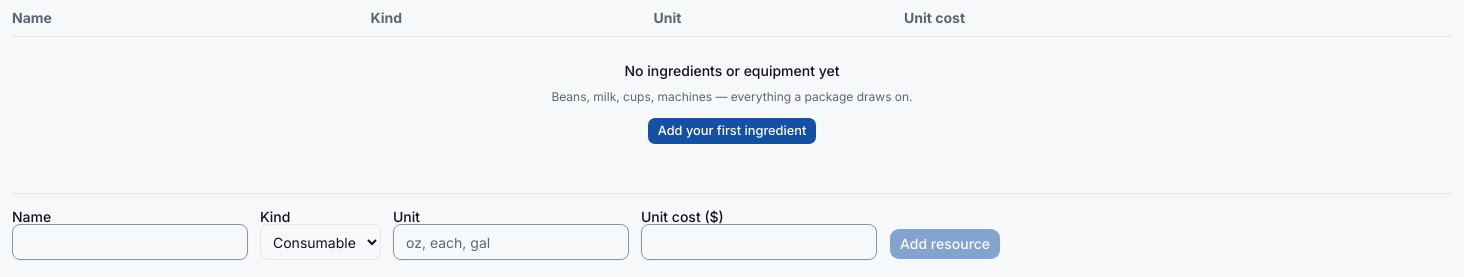
Test: ResourcesTab › creates a resource from the add form
Type "Oat milk" into the field labelled "Name" at (130, 242), box [12,224,248,260]
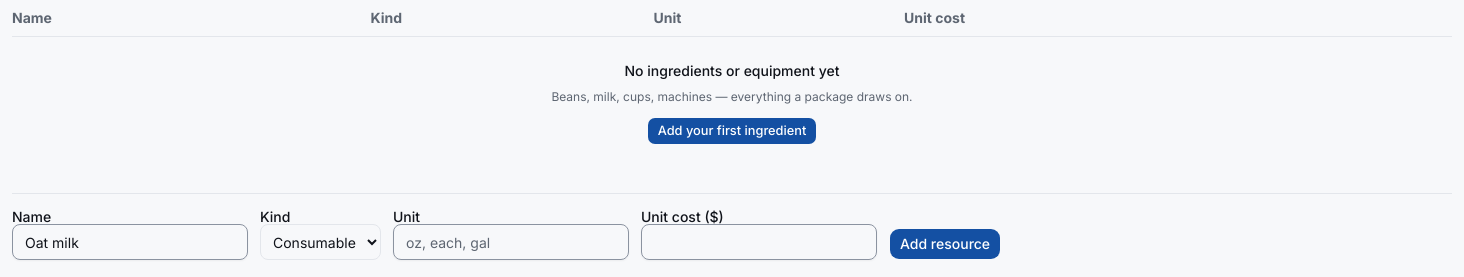
Type "oz" into the field labelled "Unit" at (511, 242), box [393,224,629,260]
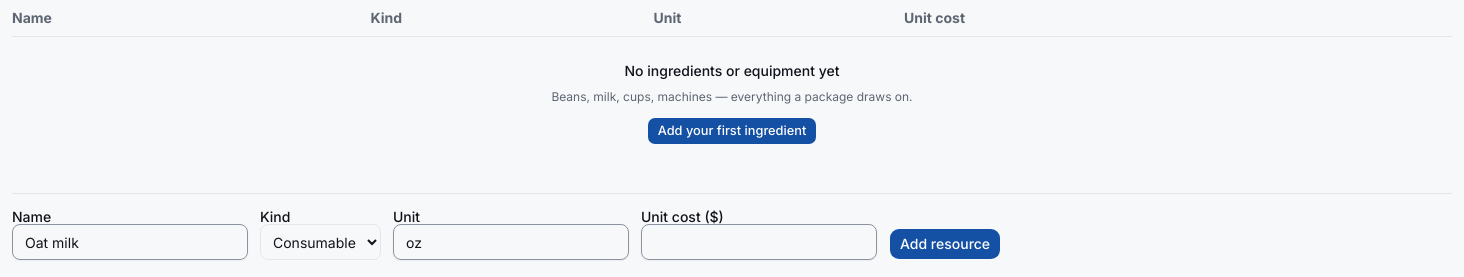
Type "0.05" into the number field labelled "Unit cost ($)" at (759, 242), box [641,224,877,260]
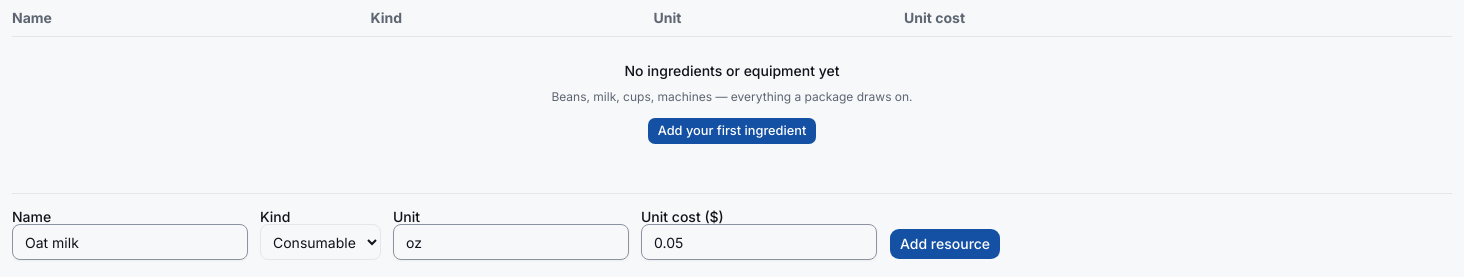
Click the button "Add resource" at (945, 244), box [889,228,1001,260]
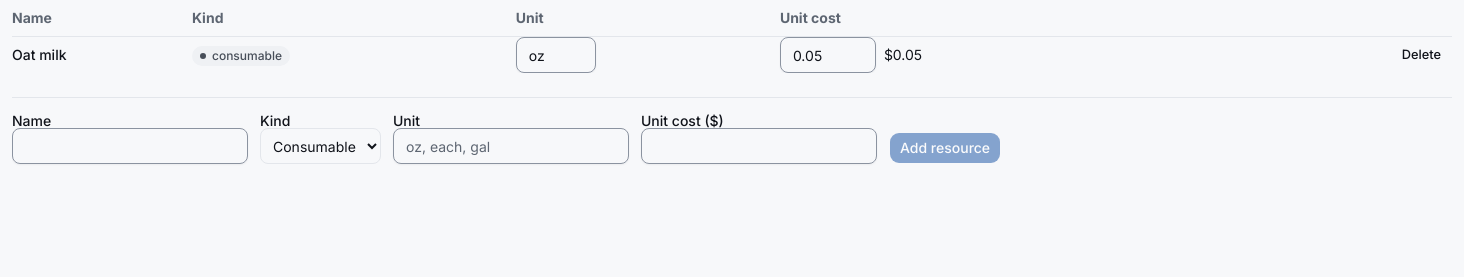
Result: the text "Oat milk" is shown at [12,36,192,73]
